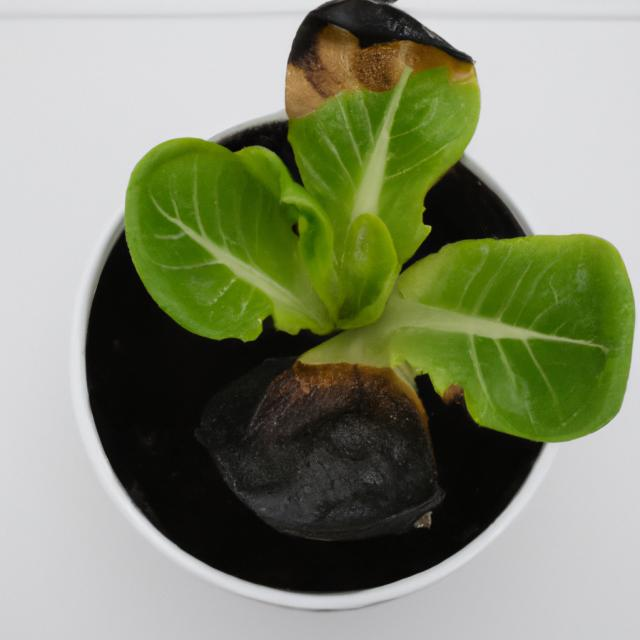-K: (107, 1, 640, 561)
